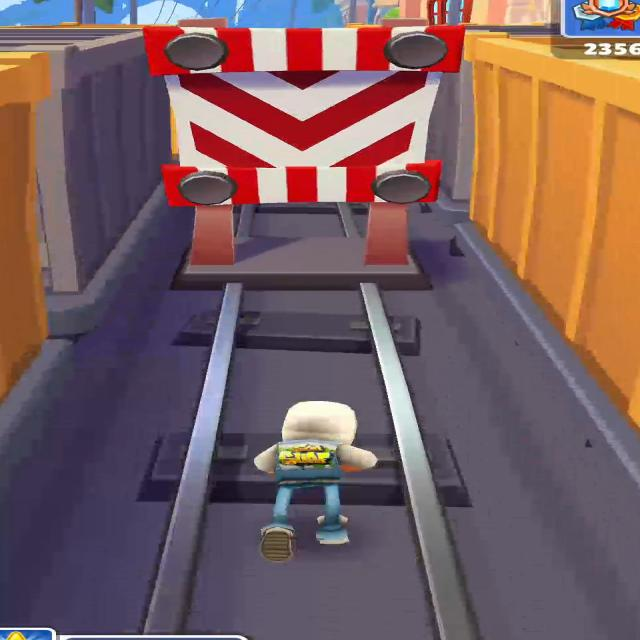jump-barrier: (143, 20, 465, 285)
train: (466, 38, 639, 429), (25, 31, 172, 293)
